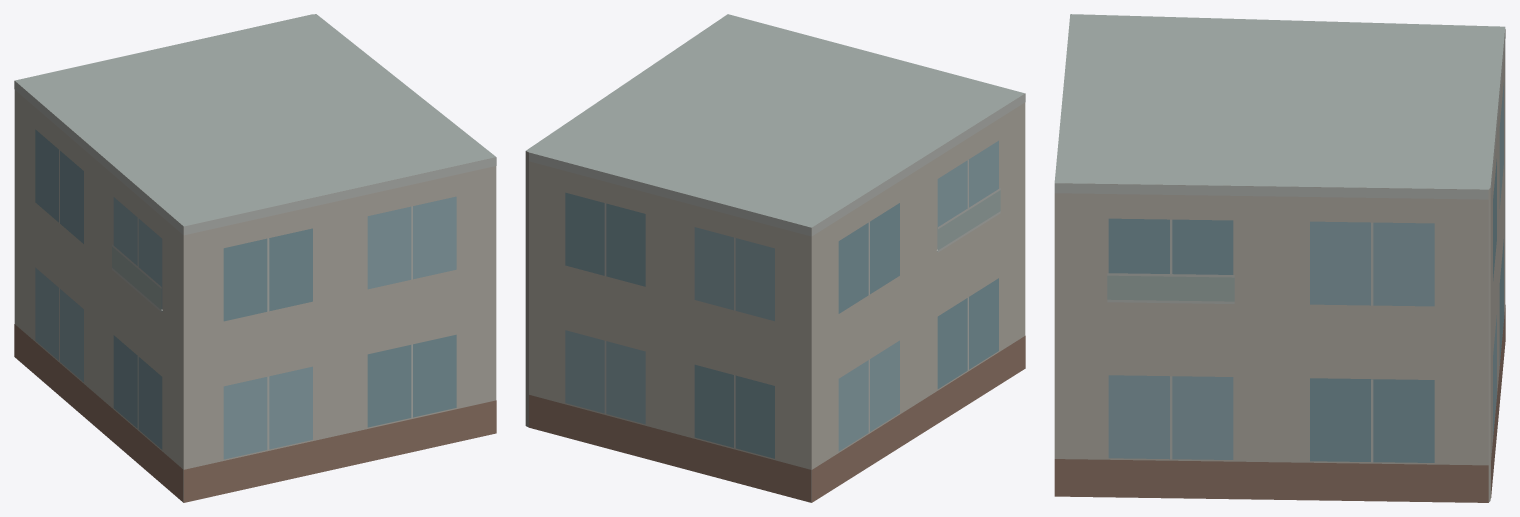
Rendered from survey-upis-33047418.glb.
3 views of the same model, side by side, from view 1: azimuth 30°, elevation 25°; view 2: azimuth 150°, elevation 25°; view 3: azimuth 270°, elevation 25° (orthographic). The views are drawn at different scales.
Parts seen in each view (by area): view 1: survey-upis-33047418.tmp; view 2: survey-upis-33047418.tmp; view 3: survey-upis-33047418.tmp.
Part boxes in pixels (box(x1,y1,x2,y2)): survey-upis-33047418.tmp: box(14, 14, 496, 502); survey-upis-33047418.tmp: box(525, 14, 1025, 502); survey-upis-33047418.tmp: box(1054, 14, 1505, 502).
Bounding box in the file's own units: 9.14 × 7.6 × 9.93.
